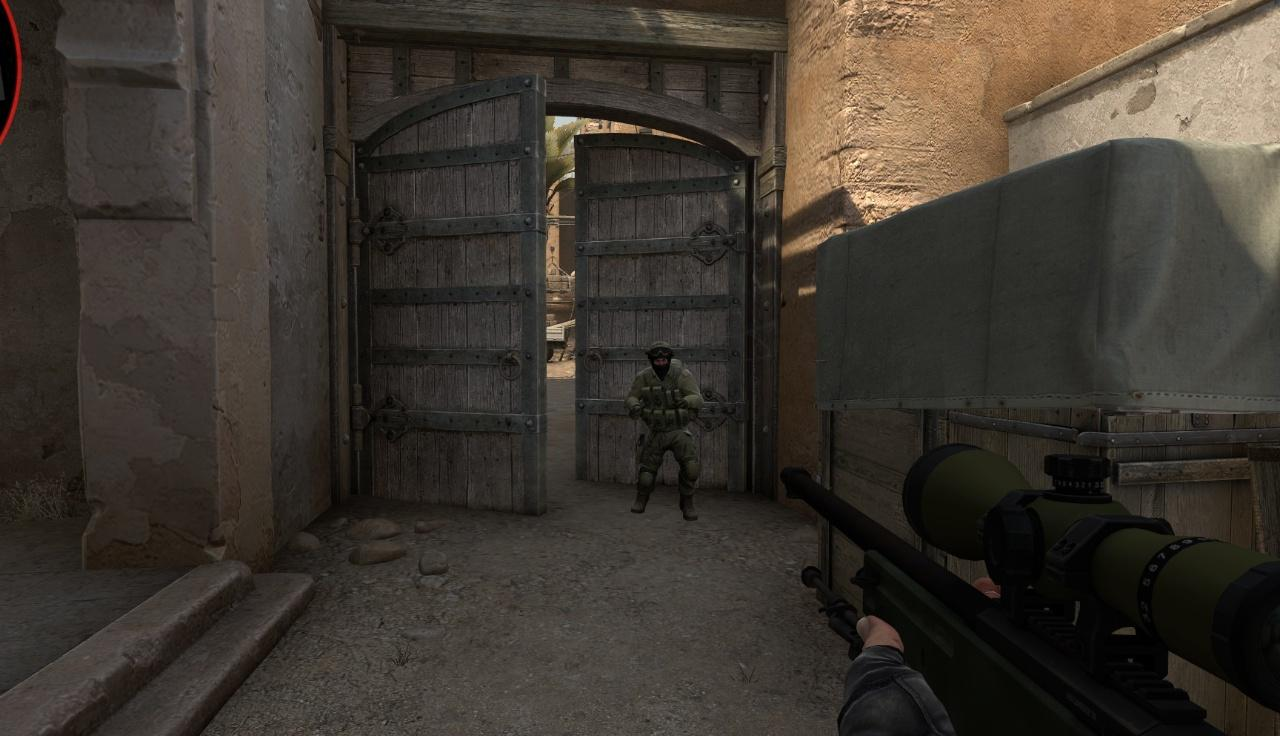ct: (627, 341, 703, 523)
cthead: (648, 342, 671, 375)
sniper: (779, 441, 1280, 736)
